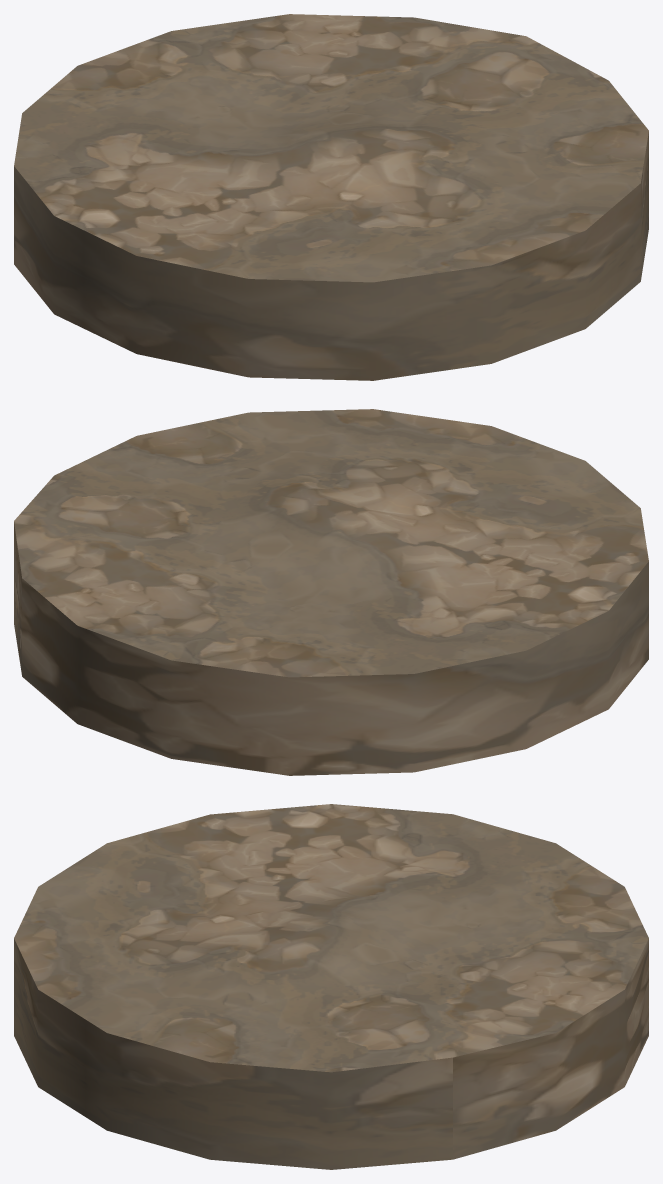
The model's file is DirtFloor.fbx.
3 renders of one model, top to bottom at view 1: azimuth 30°, elevation 25°; view 2: azimuth 150°, elevation 25°; view 3: azimuth 270°, elevation 25°, orthographic.
Parts seen in each view (by area): view 1: pCylinder3; view 2: pCylinder3; view 3: pCylinder3.
Part boxes in pixels (box(x1,y1,x2,y2)): pCylinder3: box(14, 14, 648, 380); pCylinder3: box(14, 409, 648, 775); pCylinder3: box(14, 804, 648, 1169).
Bounding box in the file's own units: 10.81 × 2.11 × 10.81.
